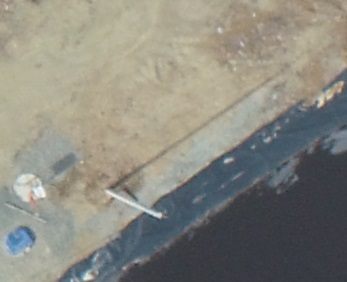opora: (102, 167, 170, 222)
